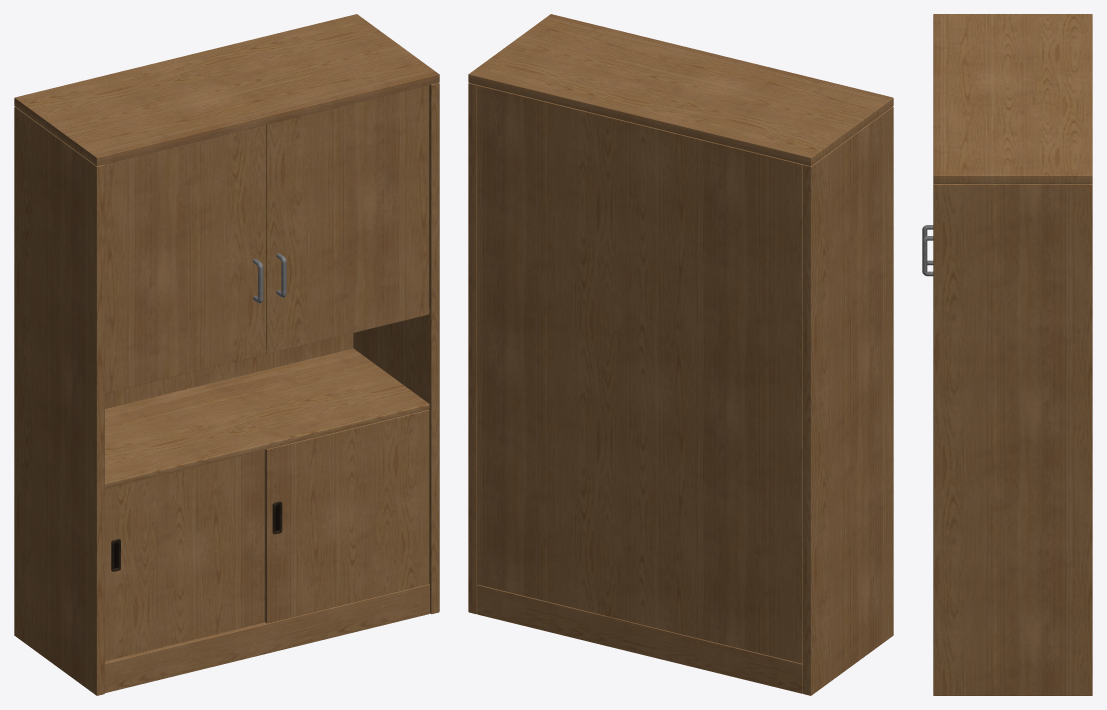
Rendered from Shelf_03.FBX.
3 views of the same model, side by side, from view 1: azimuth 30°, elevation 25°; view 2: azimuth 150°, elevation 25°; view 3: azimuth 270°, elevation 25° (orthographic). The views are drawn at different scales.
Visible parts, largest first — view 1: Shelf_03; view 2: Shelf_03; view 3: Shelf_03.
Boxes of the visible parts, left/top/right/bottom form: Shelf_03: left=14, top=14, right=439, bottom=695; Shelf_03: left=468, top=14, right=893, bottom=695; Shelf_03: left=922, top=14, right=1092, bottom=695.
Size of the model in its own units: 120 by 180 by 53.46.
